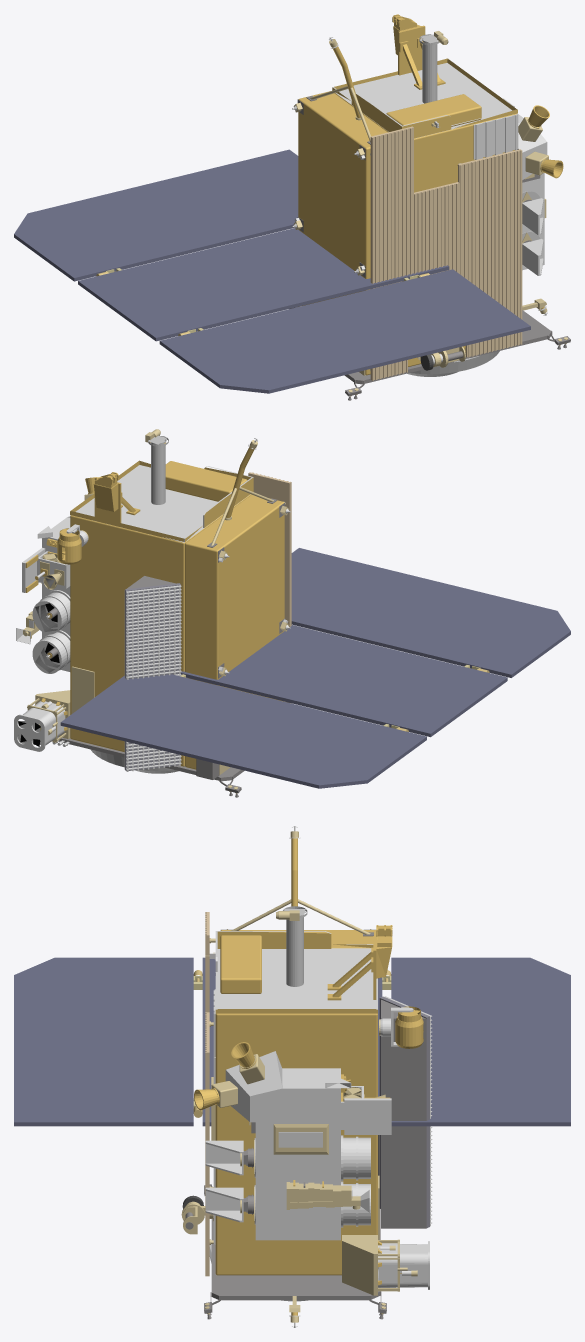
The model's file is lro.glb.
3 views of the same model, one above another, from view 1: azimuth 30°, elevation 25°; view 2: azimuth 150°, elevation 25°; view 3: azimuth 270°, elevation 25° (orthographic). The views are drawn at different scales.
Parts seen in each view (by area): view 1: Layer_0; view 2: Layer_0; view 3: Layer_0.
Part boxes in pixels (left/top/right/bottom): Layer_0: left=14, top=14, right=570, bottom=400; Layer_0: left=14, top=429, right=570, bottom=797; Layer_0: left=14, top=826, right=570, bottom=1327.
Size of the model in its own units: 33.28 by 26.29 by 32.26.
4 materials, 4 textured.
